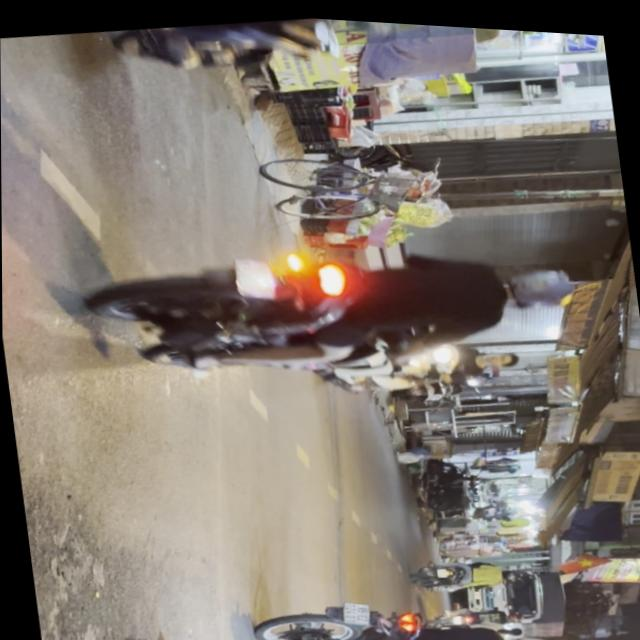helmet: (501, 252, 577, 304), (506, 623, 552, 640)
licenseplate: (70, 200, 586, 408), (53, 2, 532, 113), (251, 566, 556, 640), (312, 317, 529, 404)
motorcyclist: (482, 339, 524, 364)
nohelmet: (235, 249, 278, 296), (342, 594, 372, 623)
